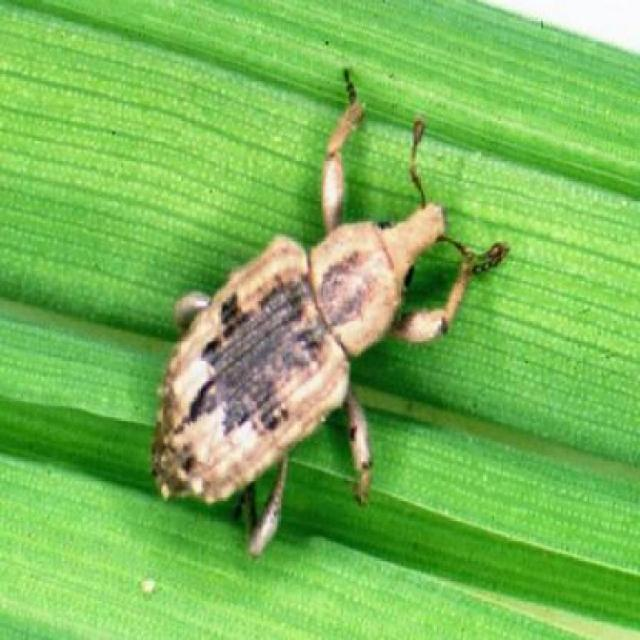rice-bug: (157, 129, 466, 557)
